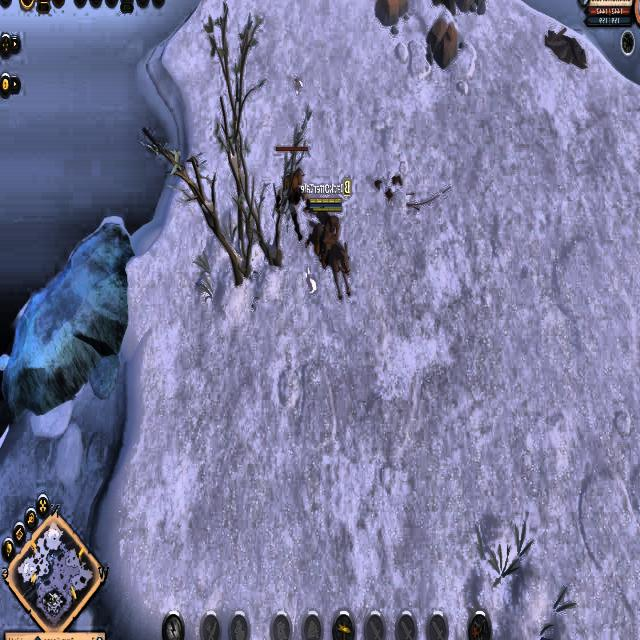limestone: (425, 12, 461, 66), (429, 0, 491, 16), (375, 0, 411, 23)
